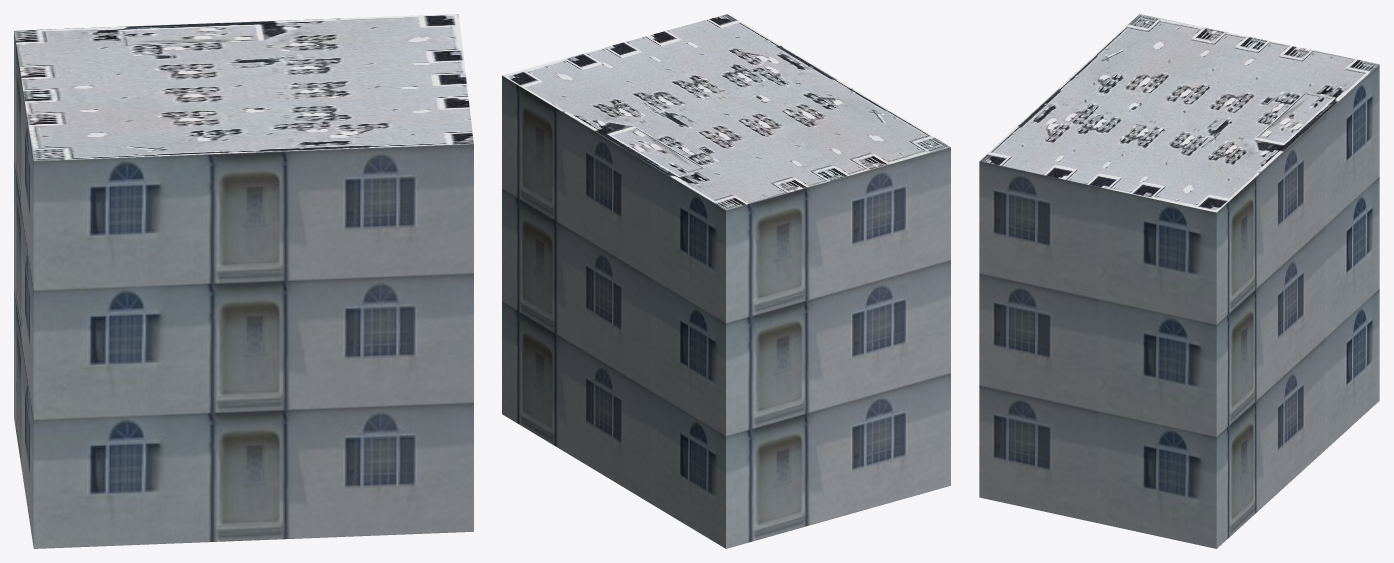
The model's file is ResTex__5288.fbx.
3 renders of one model, left to right at view 1: azimuth 30°, elevation 25°; view 2: azimuth 150°, elevation 25°; view 3: azimuth 270°, elevation 25°, orthographic. The views are drawn at different scales.
Parts seen in each view (by area): view 1: CityEngineMaterial_17_m, CityEngineMaterial_8_m; view 2: CityEngineMaterial_17_m, CityEngineMaterial_8_m; view 3: CityEngineMaterial_17_m, CityEngineMaterial_8_m.
Boxes of the visible parts, left/top/right/bottom form: CityEngineMaterial_17_m: left=14, top=31, right=473, bottom=548; CityEngineMaterial_8_m: left=14, top=14, right=473, bottom=160; CityEngineMaterial_17_m: left=502, top=75, right=950, bottom=548; CityEngineMaterial_8_m: left=502, top=14, right=950, bottom=210; CityEngineMaterial_17_m: left=979, top=65, right=1379, bottom=548; CityEngineMaterial_8_m: left=979, top=14, right=1379, bottom=212.
Bounding box in the file's own units: 11.4 × 9 × 9.72.
Materials: 2 (2 with a texture image).
